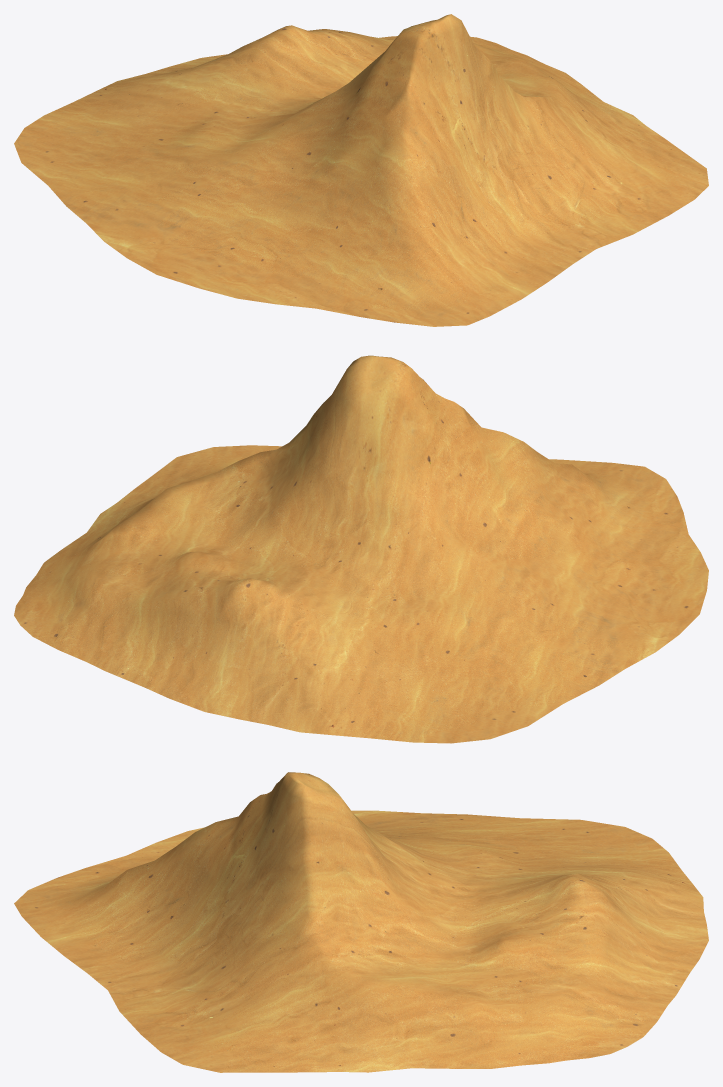
File: EP1_Terrain03a.fbx
3 renders of one model, top to bottom at view 1: azimuth 30°, elevation 25°; view 2: azimuth 150°, elevation 25°; view 3: azimuth 270°, elevation 25°, orthographic. The views are drawn at different scales.
Visible parts, largest first — view 1: EP1_Terrain03a; view 2: EP1_Terrain03a; view 3: EP1_Terrain03a.
Part boxes in pixels (x1,y1,x2,y2): EP1_Terrain03a: (14, 14, 708, 326); EP1_Terrain03a: (14, 355, 708, 743); EP1_Terrain03a: (14, 772, 708, 1072).
Bounding box in the file's own units: 12.54 × 4.03 × 14.04.
1 material, 1 textured.
